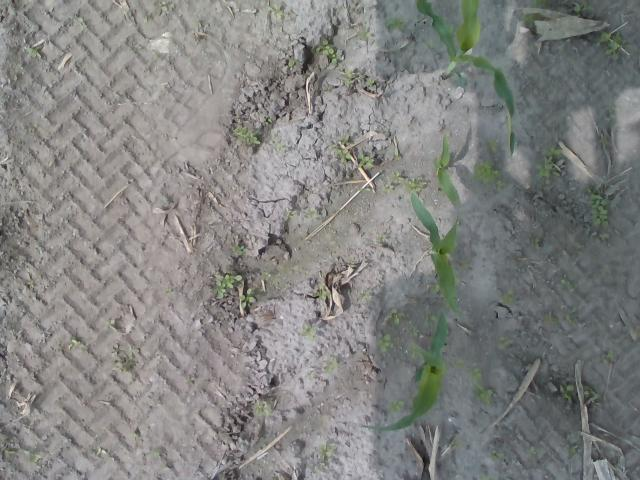Maize: (414, 0, 518, 161), (361, 308, 449, 434), (409, 189, 465, 315), (432, 134, 463, 212)
Weeds: (328, 133, 373, 170), (214, 272, 258, 309), (586, 185, 612, 241), (473, 158, 507, 190), (468, 366, 494, 407), (382, 171, 427, 193), (592, 32, 624, 62), (558, 382, 600, 404), (540, 306, 581, 326), (536, 144, 560, 177), (230, 125, 262, 146), (567, 430, 583, 458), (288, 206, 320, 220), (384, 16, 410, 33), (559, 271, 578, 294), (318, 39, 335, 64), (384, 306, 404, 327), (318, 440, 336, 462), (571, 0, 595, 16), (22, 447, 42, 465), (496, 287, 514, 306), (377, 332, 392, 353), (253, 400, 272, 416), (406, 342, 422, 360), (300, 322, 316, 339), (454, 258, 474, 270), (488, 449, 507, 461), (496, 336, 512, 350), (230, 243, 246, 257), (154, 0, 168, 16), (387, 399, 404, 412), (430, 283, 443, 300), (342, 66, 353, 86), (314, 282, 326, 300), (486, 138, 498, 154), (453, 358, 467, 371), (606, 350, 620, 363), (270, 3, 282, 18), (522, 12, 540, 22), (324, 358, 336, 372), (423, 312, 438, 322), (104, 318, 118, 328), (530, 0, 545, 9), (450, 438, 462, 449), (478, 473, 496, 480), (424, 40, 436, 48), (26, 46, 35, 56), (264, 272, 272, 282), (70, 336, 78, 346), (360, 186, 371, 192), (152, 451, 160, 459), (366, 79, 374, 86), (288, 61, 294, 70)
